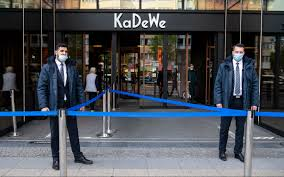Good: (35, 43, 261, 168), (34, 43, 100, 112)
